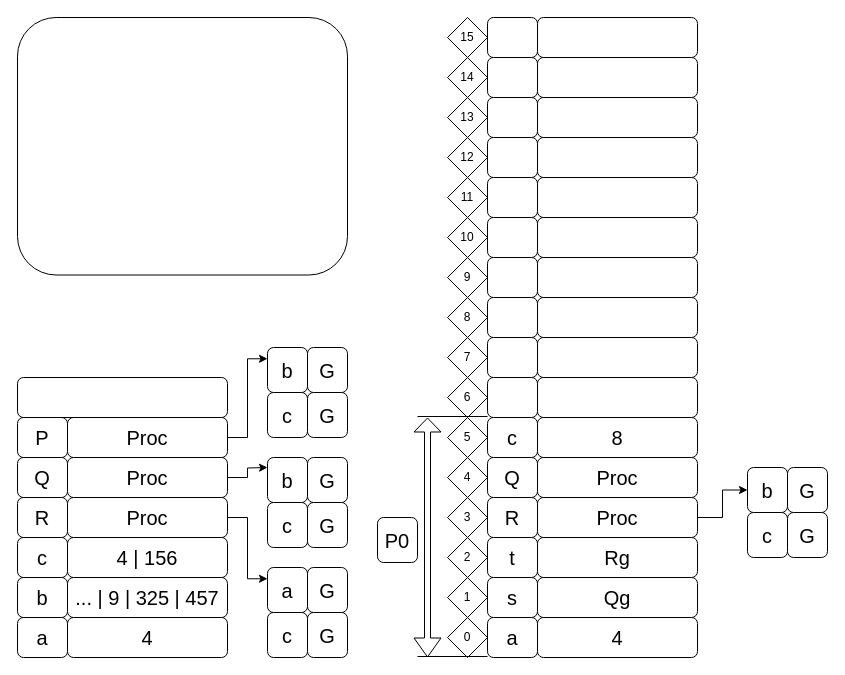
The diagram is 845 pixels wide and 675 high, and some of its shapes have lost their labels. Each missing label, with the box of its shape:
Global: (16, 376, 228, 418)
Prints: 12 457 16 4 457 8: (16, 16, 348, 275)
